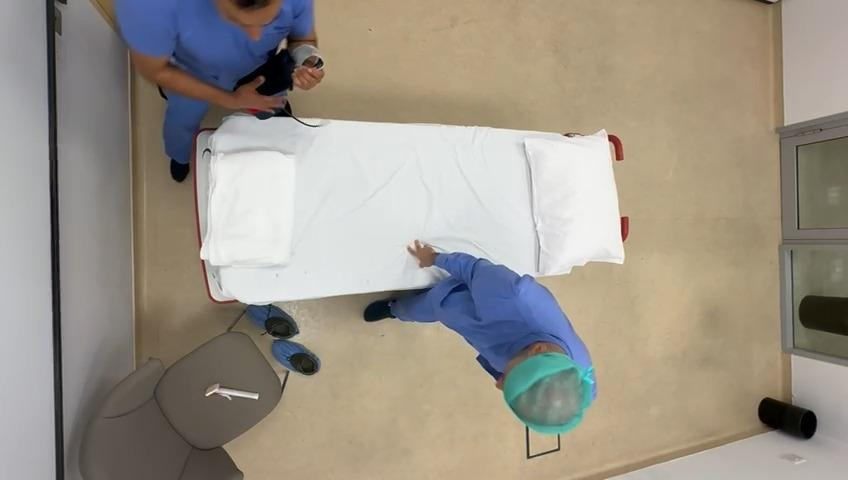bed: (197, 119, 631, 306)
prepstick: (204, 383, 258, 401)
